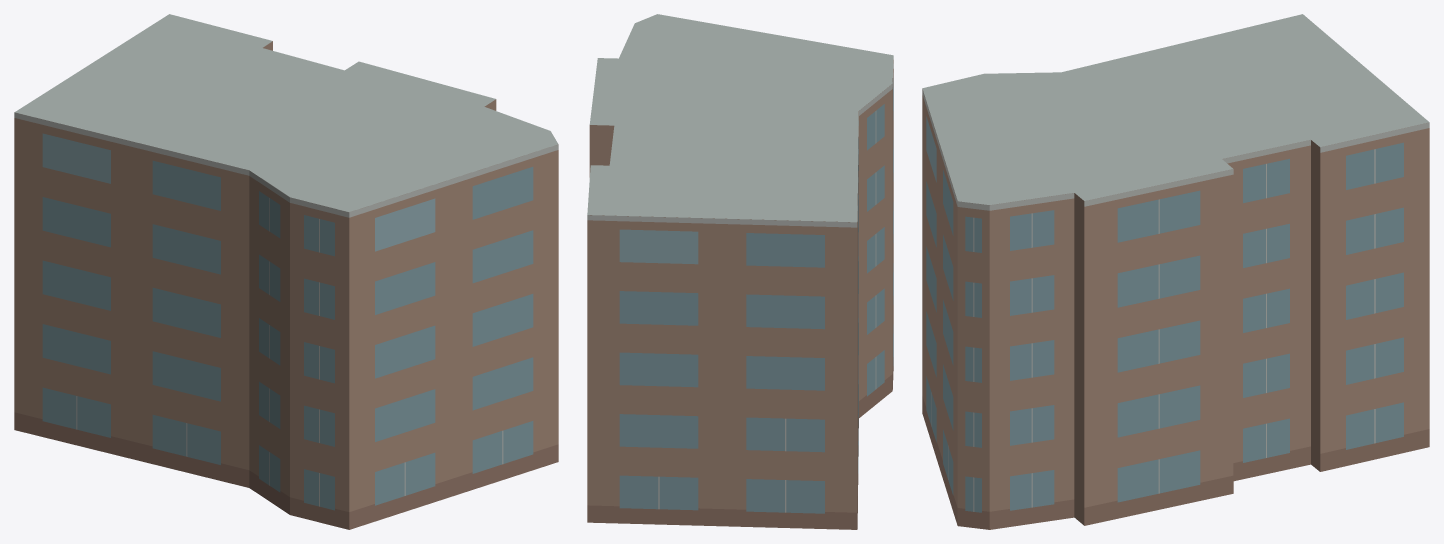
File: survey-upis-32781219.glb
3 renders of one model, left to right at view 1: azimuth 30°, elevation 25°; view 2: azimuth 150°, elevation 25°; view 3: azimuth 270°, elevation 25°, orthographic. The views are drawn at different scales.
Parts seen in each view (by area): view 1: survey-upis-32781219.tmp; view 2: survey-upis-32781219.tmp; view 3: survey-upis-32781219.tmp.
Boxes of the visible parts, x1,y1,x2,y2 form: survey-upis-32781219.tmp: (14,14,558,529); survey-upis-32781219.tmp: (587,14,893,529); survey-upis-32781219.tmp: (922,14,1429,529).
Size of the model in its own units: 17.75 by 14.05 by 19.9.
